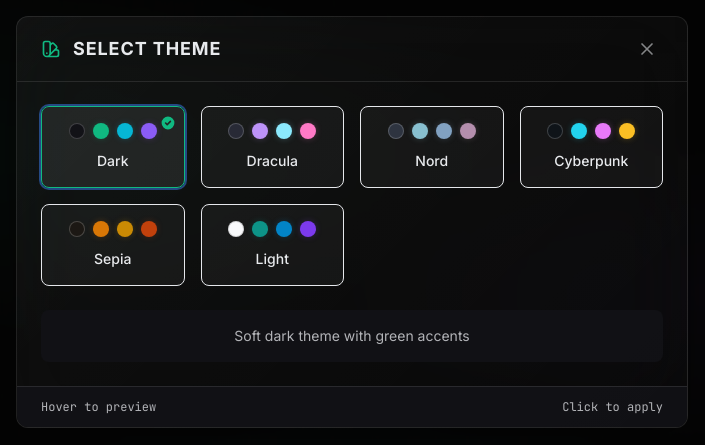
Test case: ThemePicker › theme preview › should show preview theme description on hover
The width and height of the screenshot is (705, 445).
Hover over the button "Dracula" at point(272, 147), box left=200, top=106, right=344, bottom=188
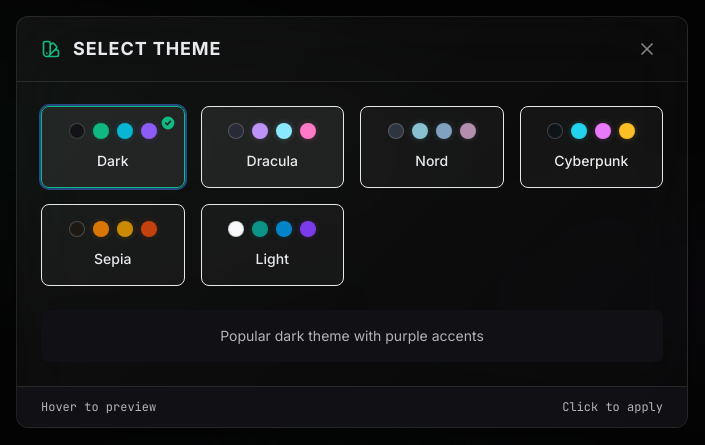
expect the text "Popular dark theme with purple accents" is shown: met, box left=220, top=327, right=484, bottom=344
